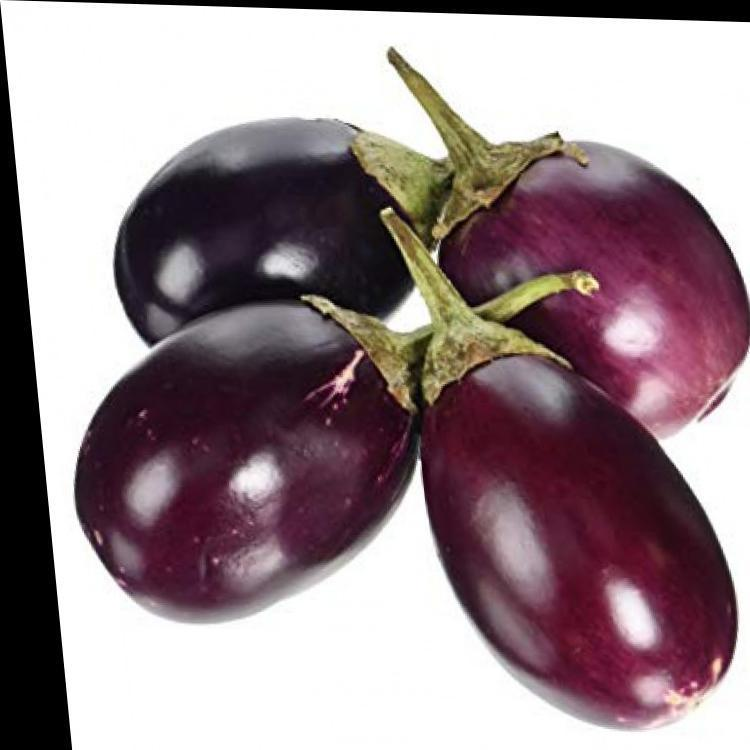eggplant: (383, 237, 749, 749), (20, 272, 432, 688), (392, 68, 749, 426), (45, 30, 460, 325)
